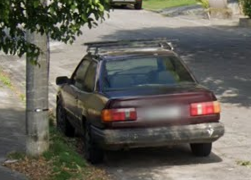car: (55, 42, 224, 170)
